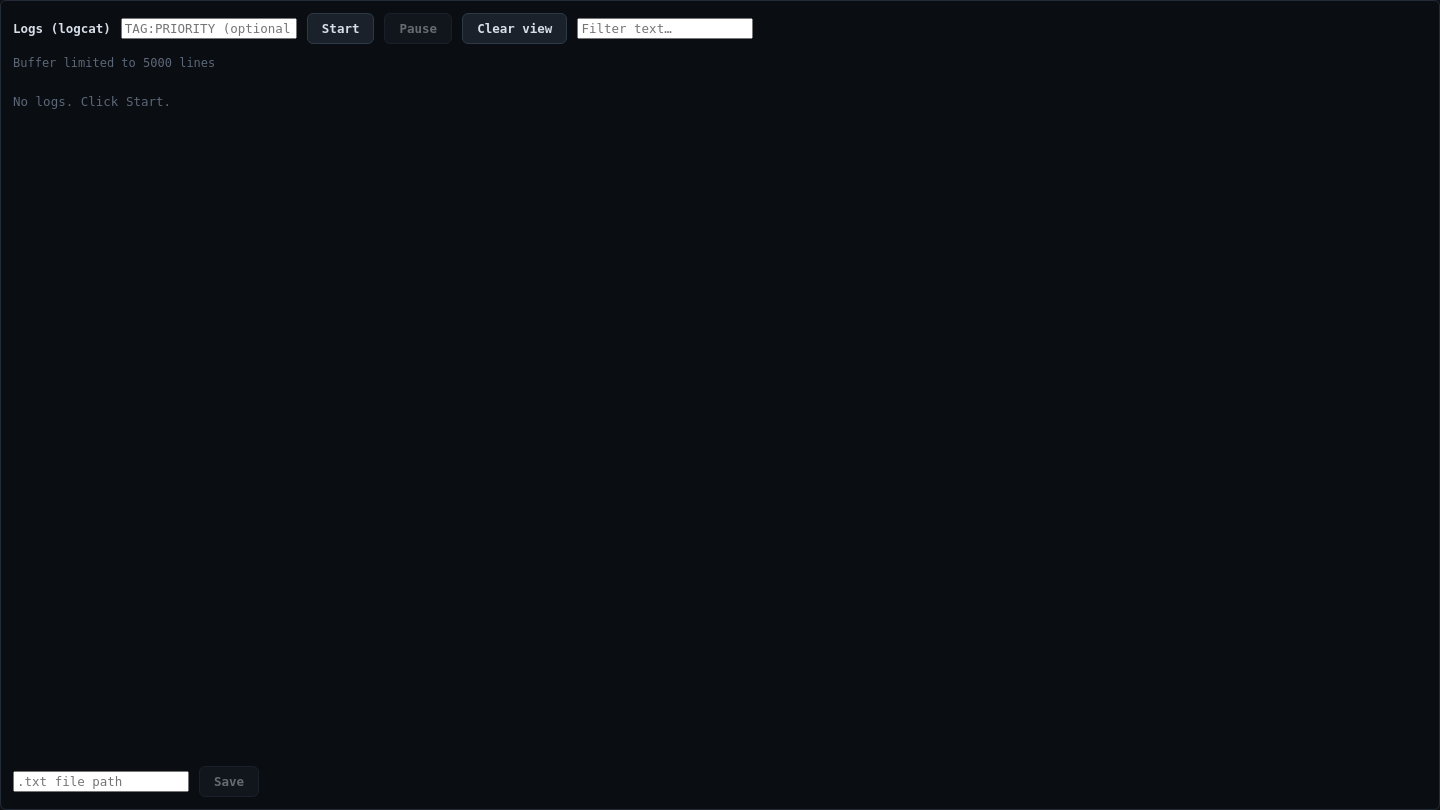
Test: starts on demand, isolates sessions, and stops on unmount
Click the button "Start" at (341, 28), box [307, 13, 374, 44]
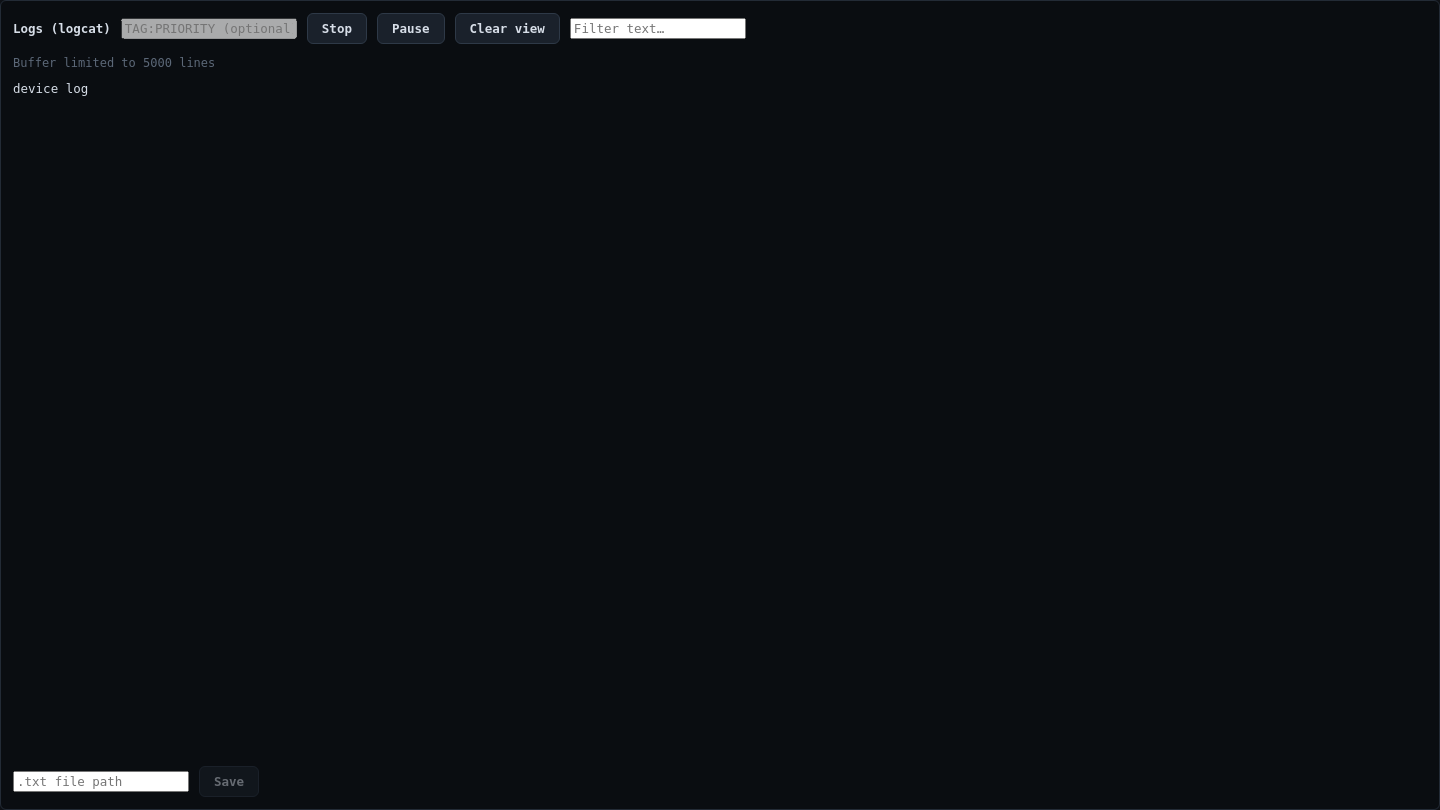
Check: the text "device log" is shown, box [13, 81, 88, 96]
